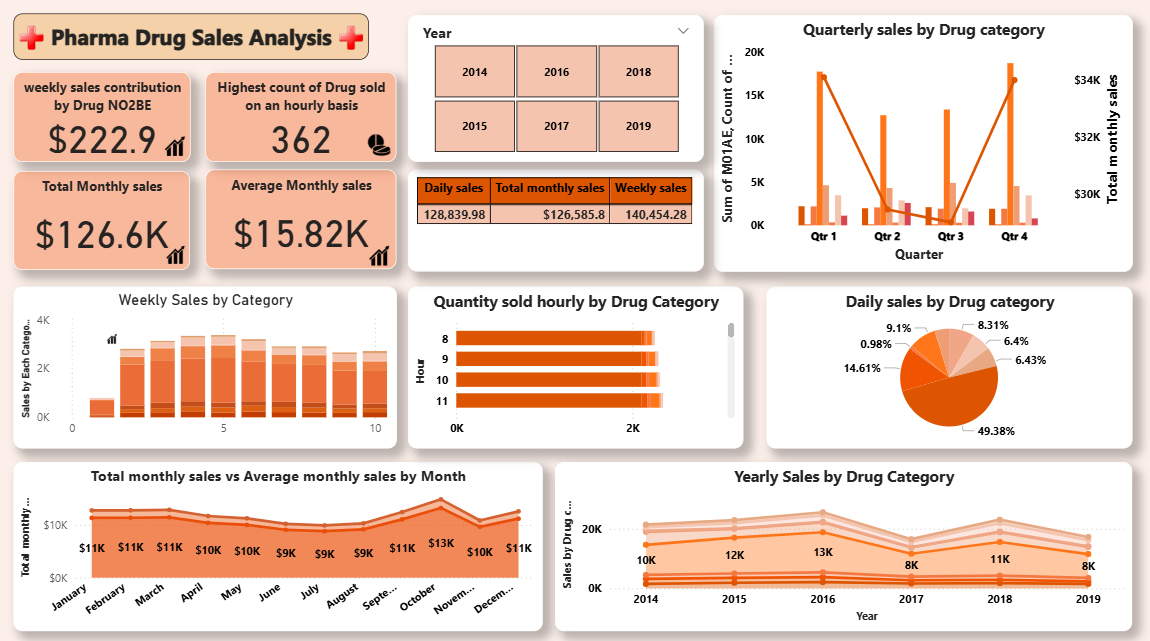

The page's visual inventory and layout, read from the dashboard file:
{"tool":"powerbi","page":{"name":"Page 1","canvas":[1280,720],"ordinal":0},"visuals":[{"type":"textbox","box":[15.1,18.9,395,51],"z":0},{"type":"columnChart","title":"Weekly Sales by Category","fields":{"Category":["Sales weekly.Week Num"],"Y":["Sum(Sales weekly.M01AB)","Sum(Sales weekly.M01AE)","Sum(Sales weekly.N02BA)","Sum(Sales weekly.N02BE)","Sum(Sales weekly.N05B)","Sum(Sales weekly.N05C)","Sum(Sales weekly.R03)","Sum(Sales weekly.R06)"]},"box":[14.6,322.2,425.9,179.7],"z":1000},{"type":"stackedAreaChart","title":"Total monthly sales vs Average monthly sales by Month","fields":{"Y":["Sales Monthly.Total monthly sales","Sales Monthly.Average monthly sales"],"Category":["Sales Monthly.Date.Variation.Date Hierarchy.Month"]},"box":[14.6,516.5,587.8,187.8],"z":2000},{"type":"barChart","title":"Quantity sold hourly by Drug Category","fields":{"Category":["Sales Hourly.Hour"],"Y":["CountNonNull(Sales Hourly.M01AB)","Count(Sales Hourly.M01AE)","Count(Sales Hourly.N02BA)","Count(Sales Hourly.N02BE)","Count(Sales Hourly.N05C)","Count(Sales Hourly.N05B)","Count(Sales Hourly.R03)","Count(Sales Hourly.R06)"]},"box":[453.4,322.2,372.4,179.7],"z":3000},{"type":"pieChart","title":"Daily sales by Drug category","fields":{"Y":["Sum(Sales Daily.M01AB)","Sum(Sales Daily.N02BA)","Sum(Sales Daily.M01AE)","Sum(Sales Daily.N02BE)","Sum(Sales Daily.N05B)","Sum(Sales Daily.N05C)","Sum(Sales Daily.R03)","Sum(Sales Daily.R06)"]},"box":[851.7,322.2,406.4,179.7],"z":4000},{"type":"stackedAreaChart","title":"Yearly Sales by Drug Category","fields":{"Category":["Sales Monthly.Date.Variation.Date Hierarchy.Year"],"Y":["Sum(Sales Monthly.M01AB)","Sum(Sales Monthly.N02BA)","Sum(Sales Monthly.M01AE)","Sum(Sales Monthly.N02BE)","Sum(Sales Monthly.N05B)","Sum(Sales Monthly.N05C)","Sum(Sales Monthly.R03)","Sum(Sales Monthly.R06)"]},"box":[616.9,516.5,641.2,187.8],"z":5000},{"type":"lineClusteredColumnComboChart","title":"Quarterly sales by Drug category","fields":{"Category":["Sales Monthly.Date.Variation.Date Hierarchy.Quarter"],"Y":["Sum(Sales Monthly.M01AE)","CountNonNull(Sales Monthly.M01AB)","Sum(Sales Monthly.N02BA)","Sum(Sales Monthly.N02BE)","Sum(Sales Monthly.N05B)","Sum(Sales Monthly.N05C)","Sum(Sales Monthly.R03)","Sum(Sales Monthly.R06)"],"Y2":["Sales Monthly.Total monthly sales"]},"box":[793.3,20,465,285],"z":6000},{"type":"card","title":"weekly sales contribution by Drug NO2BE","fields":{"Values":["Sales weekly.Weekly sales contribution by NO2BE"]},"box":[14.6,83.1,196.9,100],"z":7000},{"type":"card","title":"Highest count of Drug sold on an hourly basis","fields":{"Values":["Count(Sales Hourly.N02BE)"]},"box":[227.7,83.1,212.3,100],"z":8000},{"type":"card","title":"Total Monthly sales","fields":{"Values":["Sales Monthly.Total monthly sales"]},"box":[15.4,193.1,196.2,110],"z":9000},{"type":"card","title":"Average Monthly sales","fields":{"Values":["Sales Monthly.Average monthly sales"]},"box":[227.7,192.3,212.3,110.8],"z":10000},{"type":"tableEx","fields":{"Values":["Sales Daily.Daily sales","Sales Monthly.Total monthly sales","Sales weekly.Weekly sales"]},"box":[453.3,191.7,328.3,113.3],"z":11000},{"type":"slicer","fields":{"Values":["Sales weekly.Date.Variation.Date Hierarchy.Year"]},"box":[453.3,20,328.3,163.3],"z":12000},{"type":"image","box":[113.3,360,21.7,40],"z":13000},{"type":"image","box":[177,149,35,35],"z":14000},{"type":"image","box":[132,270,126,33],"z":15000},{"type":"image","box":[401,270,39,35],"z":16000},{"type":"image","box":[398,143,46,41],"z":17000},{"type":"image","box":[370,27,40,37],"z":18000},{"type":"image","box":[15,27,40,37],"z":18001}]}

Visuals, with their boxes in screenshot pixels (x1, y1, x2, y2), scaled from the page's 1280x720 canvas onto the 1150x641 screenshot:
textbox: 14 17 368 62
"Weekly Sales by Category" columnChart: 13 287 396 447
"Total monthly sales vs Average monthly sales by Month" stackedAreaChart: 13 460 541 627
"Quantity sold hourly by Drug Category" barChart: 407 287 742 447
"Daily sales by Drug category" pieChart: 765 287 1130 447
"Yearly Sales by Drug Category" stackedAreaChart: 554 460 1130 627
"Quarterly sales by Drug category" lineClusteredColumnComboChart: 713 18 1131 272
"weekly sales contribution by Drug NO2BE" card: 13 74 190 163
"Highest count of Drug sold on an hourly basis" card: 205 74 395 163
"Total Monthly sales" card: 14 172 190 270
"Average Monthly sales" card: 205 171 395 270
tableEx - Sales Daily.Daily sales x Sales Monthly.Total monthly sales: 407 171 702 272
slicer - Sales weekly.Date.Variation.Date Hierarchy.Year: 407 18 702 163
image: 102 320 121 356
image: 159 133 190 164
image: 119 240 232 270
image: 360 240 395 272
image: 358 127 399 164
image: 332 24 368 57
image: 13 24 49 57
